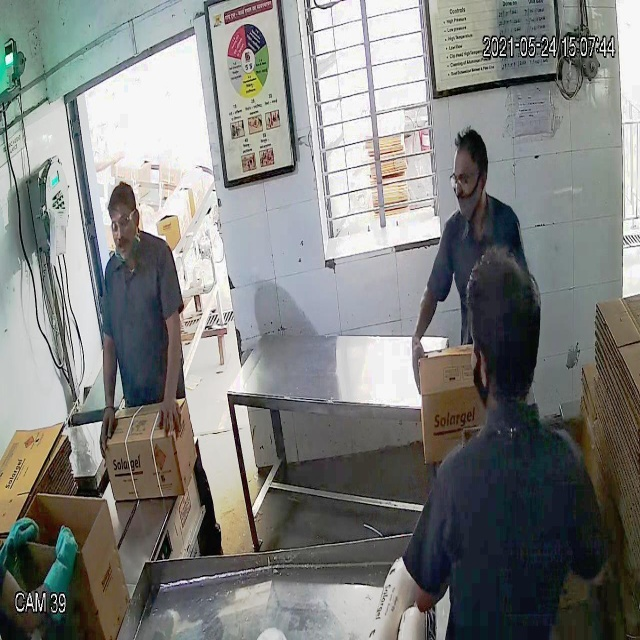Gafas: (449, 166, 486, 194), (106, 209, 142, 237)
